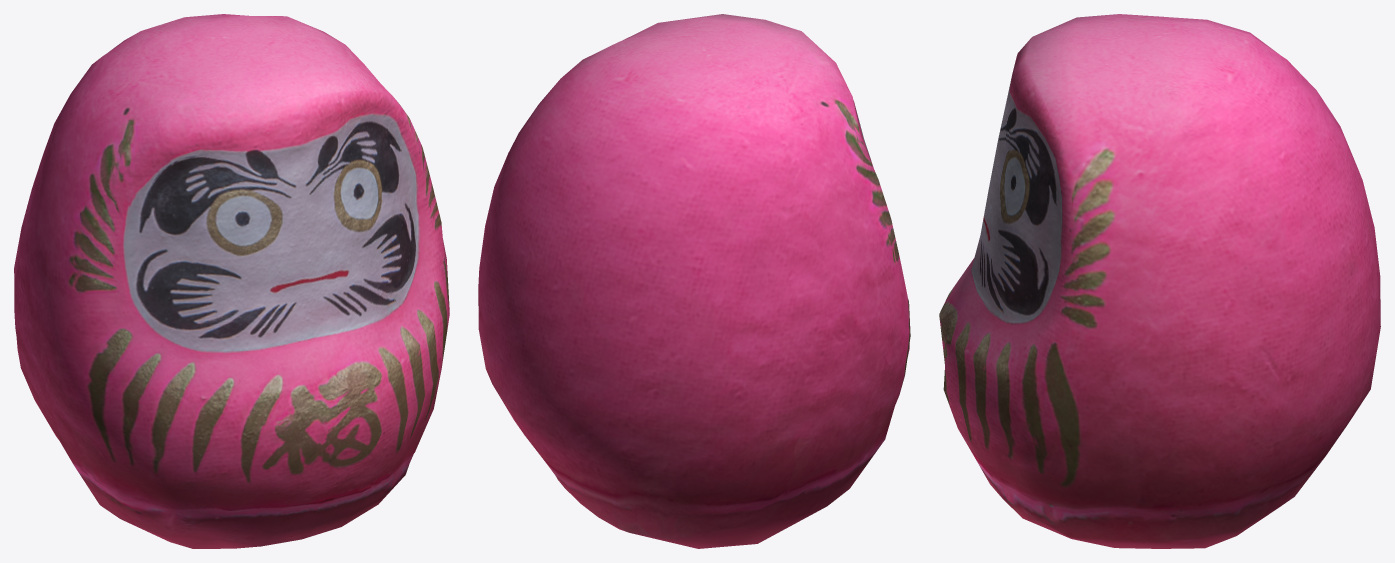
The model's file is daruma_doll.glb.
3 views of the same model, side by side, from view 1: azimuth 30°, elevation 25°; view 2: azimuth 150°, elevation 25°; view 3: azimuth 270°, elevation 25° (orthographic). The views are drawn at different scales.
Visible parts, largest first — view 1: Daruma; view 2: Daruma; view 3: Daruma.
Part boxes in pixels (x1,y1,x2,y2): Daruma: (14, 14, 449, 548); Daruma: (478, 14, 910, 548); Daruma: (939, 14, 1380, 548).
Size of the model in its own units: 0.0545 by 0.064 by 0.0543.
1 material, 1 textured.
